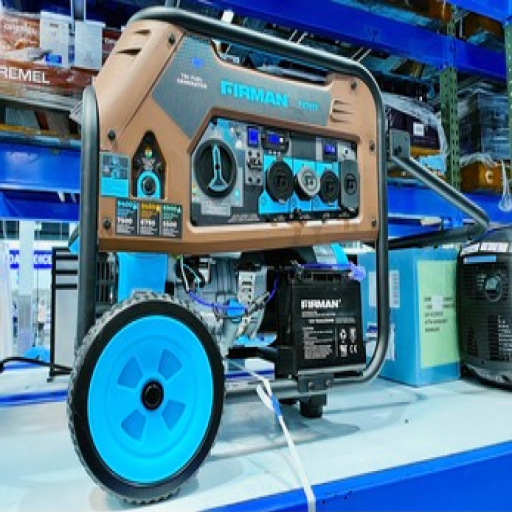portable_generator: (81, 4, 390, 401)
